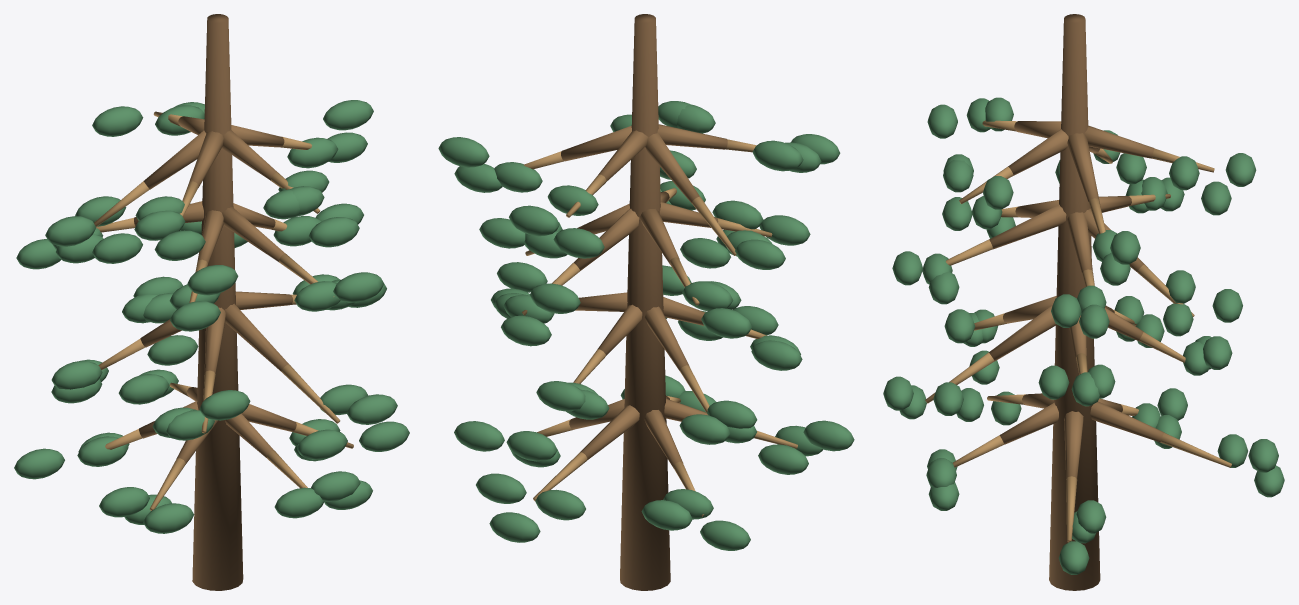
File: conifer_sapling_a.glb
3 views of the same model, side by side, from view 1: azimuth 30°, elevation 25°; view 2: azimuth 150°, elevation 25°; view 3: azimuth 270°, elevation 25° (orthographic).
Parts seen in each view (by area): view 1: conifer_sapling_a_trunk, conifer_sapling_a_branch_1_4_a, sapling_mass_1_needle_mass_0, sapling_mass_8_needle_mass_1, sapling_mass_17_needle_mass_0, sapling_mass_17_needle_mass_2, sapling_mass_3_needle_mass_2, sapling_mass_16_needle_mass_1, sapling_mass_18_needle_mass_1, sapling_mass_9_needle_mass_0, sapling_mass_9_needle_mass_1, sapling_mass_13_needle_mass_0 (+46 smaller); view 2: conifer_sapling_a_trunk, conifer_sapling_a_branch_3_2_a, sapling_mass_11_needle_mass_1, sapling_mass_1_needle_mass_1, sapling_mass_1_needle_mass_2, sapling_mass_0_needle_mass_1, sapling_mass_11_needle_mass_2, sapling_mass_3_needle_mass_1, sapling_mass_12_needle_mass_1, sapling_mass_7_needle_mass_0, sapling_mass_15_needle_mass_2, sapling_mass_17_needle_mass_2 (+45 smaller); view 3: conifer_sapling_a_trunk, conifer_sapling_a_branch_2_4_a, conifer_sapling_a_branch_0_1_a, conifer_sapling_a_branch_1_4_a, conifer_sapling_a_branch_3_0_a, conifer_sapling_a_branch_3_1_a, conifer_sapling_a_branch_0_0_a, conifer_sapling_a_branch_3_4_a, conifer_sapling_a_branch_0_4_a, conifer_sapling_a_branch_2_0_a, sapling_mass_14_needle_mass_0, sapling_mass_18_needle_mass_1 (+48 smaller).
Part boxes in pixels (x1=…): conifer_sapling_a_trunk: x1=192, y1=14, x2=243, y2=590; conifer_sapling_a_branch_1_4_a: x1=224, y1=303, x2=288, y2=371; sapling_mass_1_needle_mass_0: x1=118, y1=374, x2=169, y2=404; sapling_mass_8_needle_mass_1: x1=199, y1=390, x2=250, y2=420; sapling_mass_17_needle_mass_0: x1=92, y1=233, x2=142, y2=263; sapling_mass_17_needle_mass_2: x1=45, y1=216, x2=96, y2=246; sapling_mass_3_needle_mass_2: x1=143, y1=503, x2=194, y2=533; sapling_mass_16_needle_mass_1: x1=92, y1=106, x2=143, y2=136; sapling_mass_18_needle_mass_1: x1=154, y1=230, x2=205, y2=260; sapling_mass_9_needle_mass_0: x1=347, y1=394, x2=397, y2=424; sapling_mass_9_needle_mass_1: x1=297, y1=429, x2=347, y2=460; sapling_mass_13_needle_mass_0: x1=170, y1=301, x2=220, y2=331; conifer_sapling_a_trunk: x1=620, y1=14, x2=670, y2=590; conifer_sapling_a_branch_3_2_a: x1=645, y1=133, x2=699, y2=202; sapling_mass_11_needle_mass_1: x1=530, y1=283, x2=580, y2=313; sapling_mass_1_needle_mass_1: x1=489, y1=512, x2=540, y2=542; sapling_mass_1_needle_mass_2: x1=476, y1=473, x2=526, y2=503; sapling_mass_0_needle_mass_1: x1=454, y1=421, x2=504, y2=451; sapling_mass_11_needle_mass_2: x1=501, y1=315, x2=551, y2=346; sapling_mass_3_needle_mass_1: x1=758, y1=444, x2=808, y2=474; sapling_mass_12_needle_mass_1: x1=701, y1=308, x2=752, y2=338; sapling_mass_7_needle_mass_0: x1=679, y1=414, x2=730, y2=444; sapling_mass_15_needle_mass_2: x1=438, y1=137, x2=489, y2=167; sapling_mass_17_needle_mass_2: x1=735, y1=239, x2=785, y2=269; conifer_sapling_a_trunk: x1=1049, y1=14, x2=1100, y2=590; conifer_sapling_a_branch_2_4_a: x1=989, y1=204, x2=1066, y2=249; conifer_sapling_a_branch_0_1_a: x1=1090, y1=401, x2=1164, y2=442; conifer_sapling_a_branch_1_4_a: x1=989, y1=305, x2=1056, y2=361; conifer_sapling_a_branch_3_0_a: x1=1067, y1=133, x2=1099, y2=201; conifer_sapling_a_branch_3_1_a: x1=1084, y1=125, x2=1154, y2=158; conifer_sapling_a_branch_0_0_a: x1=1064, y1=411, x2=1083, y2=478; conifer_sapling_a_branch_3_4_a: x1=1008, y1=129, x2=1068, y2=175; conifer_sapling_a_branch_0_4_a: x1=999, y1=402, x2=1058, y2=444; conifer_sapling_a_branch_2_0_a: x1=1067, y1=212, x2=1092, y2=272; sapling_mass_14_needle_mass_0: x1=892, y1=251, x2=922, y2=285; sapling_mass_18_needle_mass_1: x1=927, y1=104, x2=957, y2=138.
Size of the model in its own units: 0.87 by 1.33 by 0.862.
